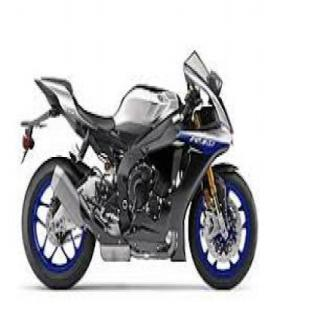Motocicleta: (16, 43, 260, 294)
